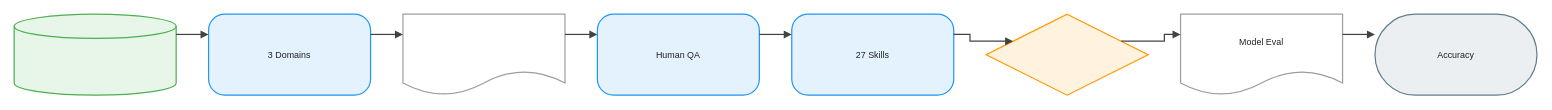
Image size: 1552x110. Some labels were removed from this diagram. The centre of each missing label's shape, as x and y in pixels:
10k Clips: point 483,54
Audio Pool: point 94,54
QC: point 1066,54
